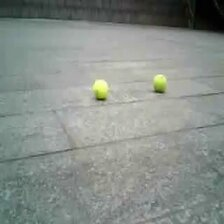tennis: (92, 79, 108, 96), (154, 75, 166, 91)
